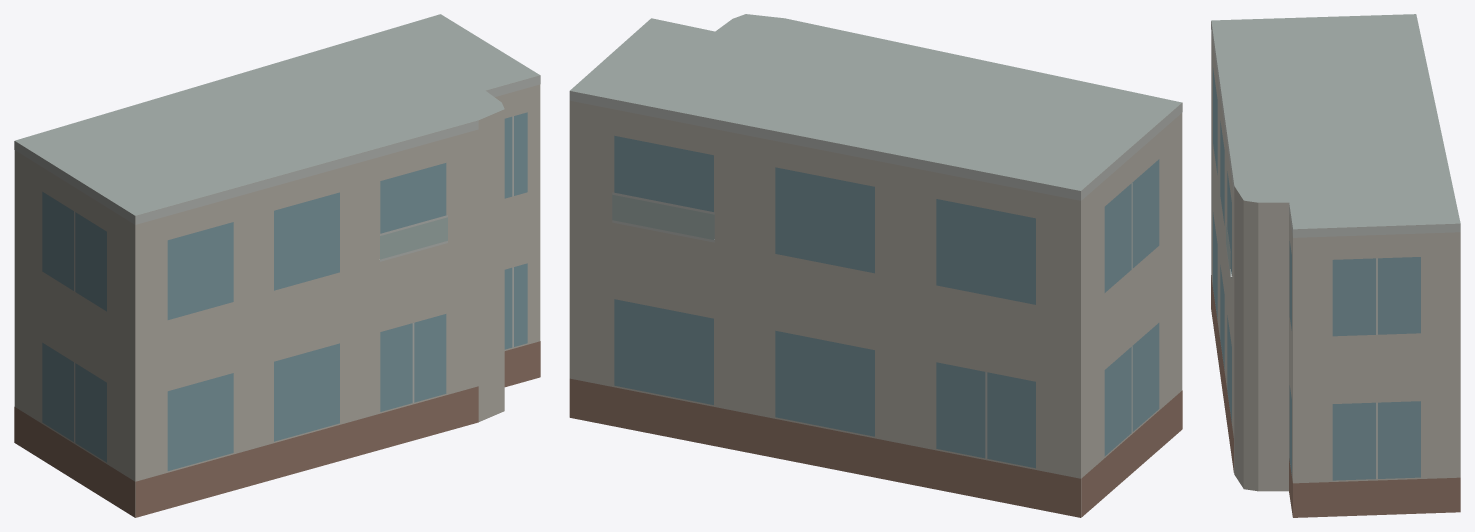
The model's file is survey-upis-32986172.glb.
3 renders of one model, left to right at view 1: azimuth 30°, elevation 25°; view 2: azimuth 150°, elevation 25°; view 3: azimuth 270°, elevation 25°, orthographic. The views are drawn at different scales.
Visible parts, largest first — view 1: survey-upis-32986172.tmp; view 2: survey-upis-32986172.tmp; view 3: survey-upis-32986172.tmp.
Part boxes in pixels (left/top/right/bottom): survey-upis-32986172.tmp: left=14, top=14, right=540, bottom=517; survey-upis-32986172.tmp: left=569, top=14, right=1182, bottom=517; survey-upis-32986172.tmp: left=1211, top=14, right=1460, bottom=517.
Size of the model in its own units: 12.97 by 8.1 by 6.36.
